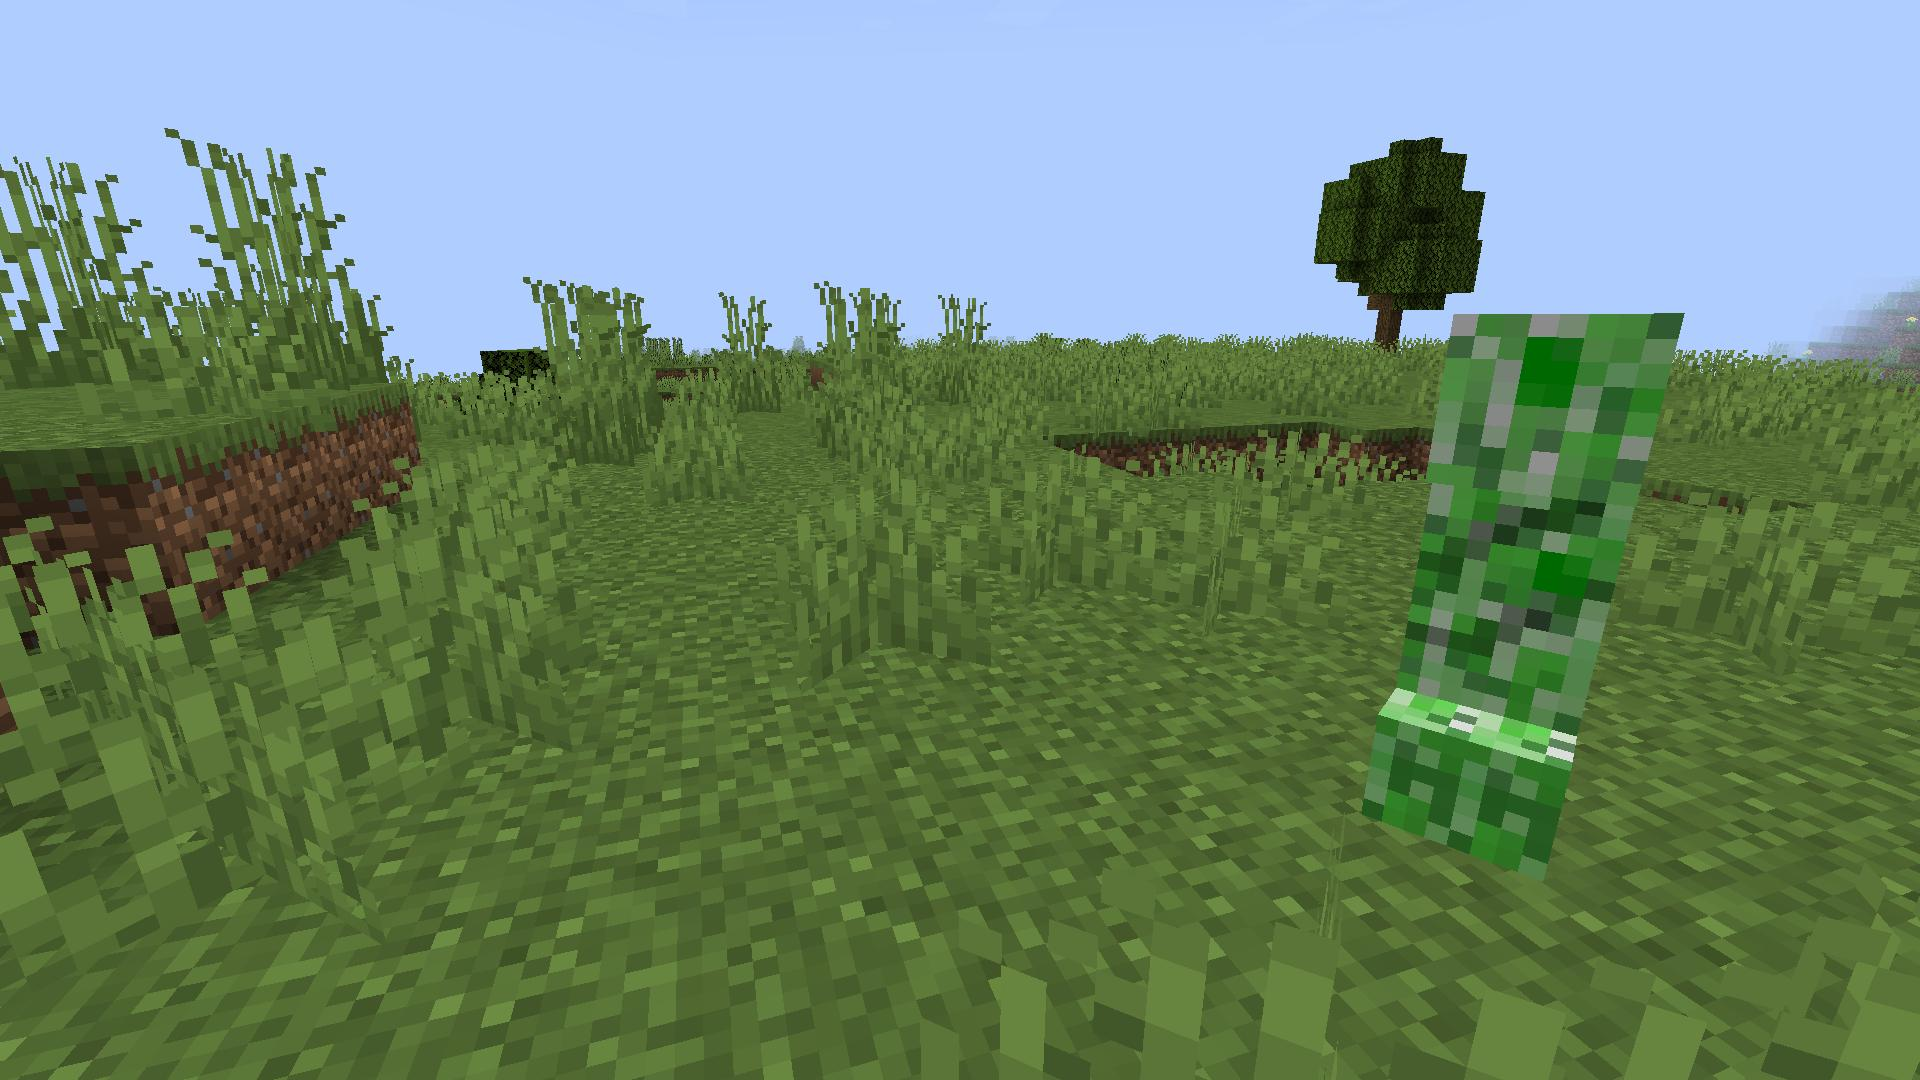creeper: (1342, 298, 1701, 877)
